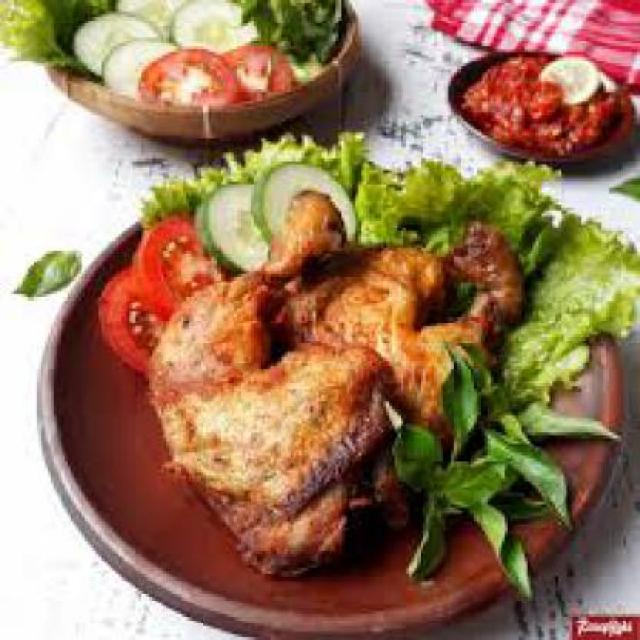Wet Waste: (156, 194, 390, 583), (264, 227, 524, 438)
